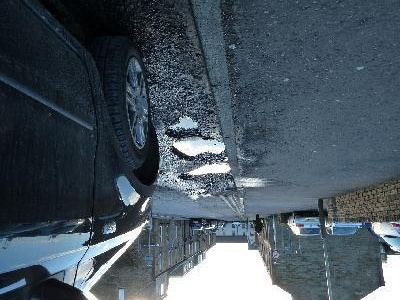pothole: (171, 137, 227, 160), (177, 159, 232, 182), (164, 114, 201, 137)
